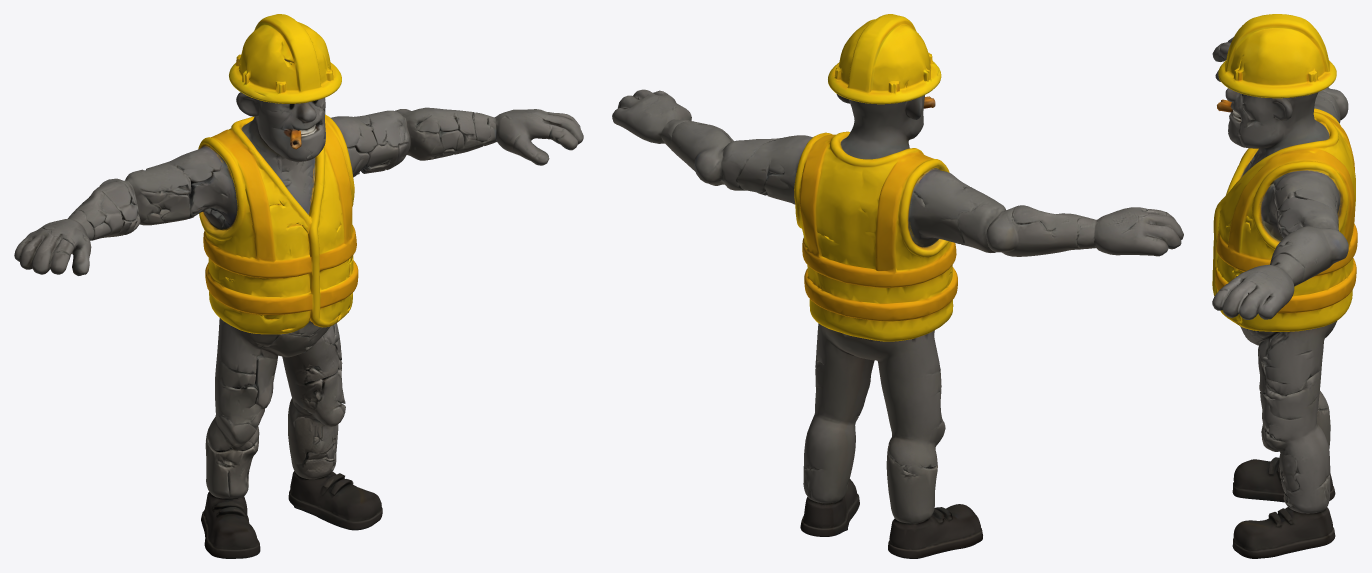
The model's file is foreman_gruss.glb.
3 views of the same model, side by side, from view 1: azimuth 30°, elevation 25°; view 2: azimuth 150°, elevation 25°; view 3: azimuth 270°, elevation 25° (orthographic).
Visible parts, largest first — view 1: tripo_node_2ee15d26-4255-4938-8023-fc6387c47cbb; view 2: tripo_node_2ee15d26-4255-4938-8023-fc6387c47cbb; view 3: tripo_node_2ee15d26-4255-4938-8023-fc6387c47cbb.
Boxes of the visible parts, <box> form: tripo_node_2ee15d26-4255-4938-8023-fc6387c47cbb: <box>14,14,583,558</box>; tripo_node_2ee15d26-4255-4938-8023-fc6387c47cbb: <box>612,14,1183,558</box>; tripo_node_2ee15d26-4255-4938-8023-fc6387c47cbb: <box>1212,14,1357,558</box>.
Size of the model in its own units: 0.9792 by 0.8494 by 0.2223.
1 material, 1 textured.
